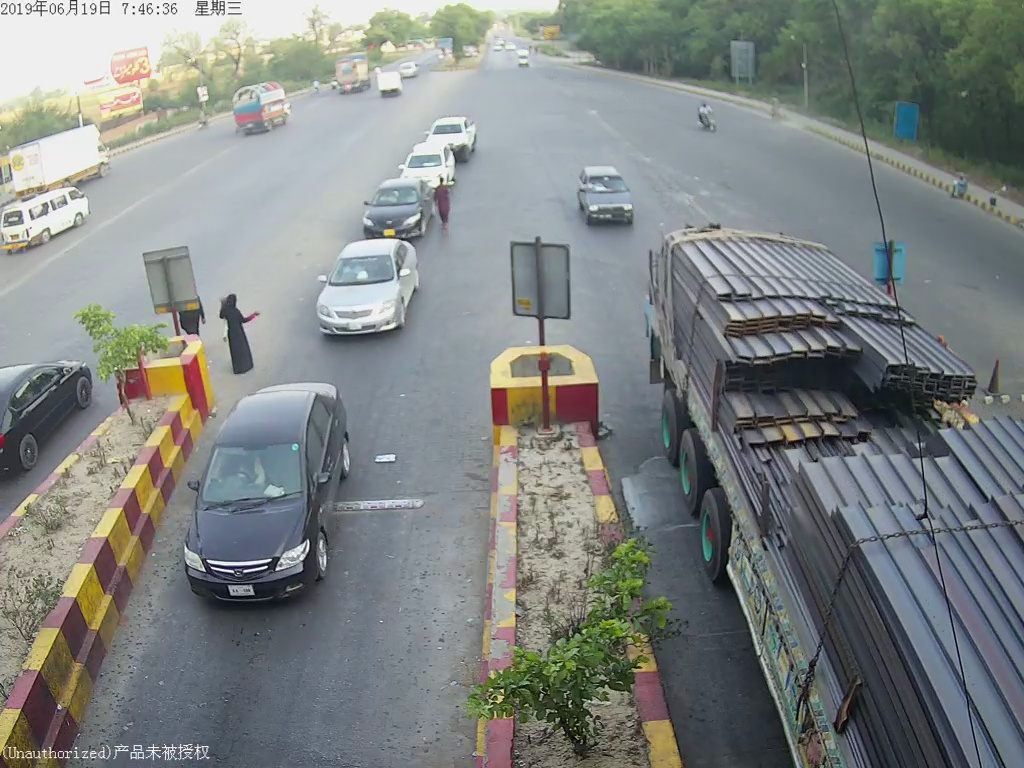Cat-1: (199, 390, 353, 603), (317, 242, 423, 331), (578, 159, 639, 225)
